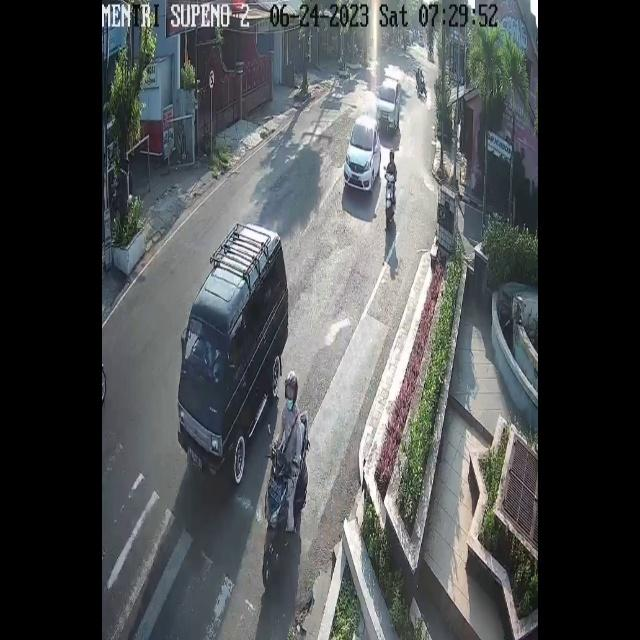bus: (262, 410, 310, 588), (384, 171, 396, 224)
motorcycle: (178, 225, 287, 488), (344, 114, 382, 191), (375, 78, 400, 132)
